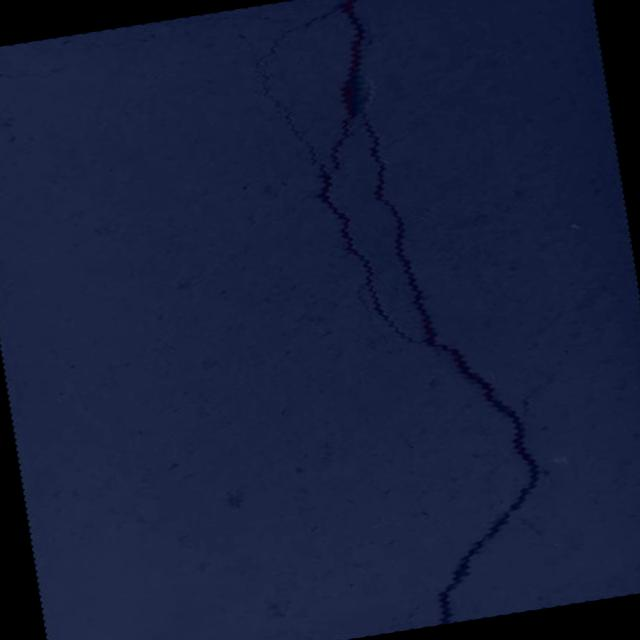crack: (166, 0, 607, 640), (0, 54, 95, 91), (64, 26, 158, 56), (606, 491, 640, 537), (564, 335, 582, 348), (50, 46, 68, 57), (576, 319, 590, 329)
